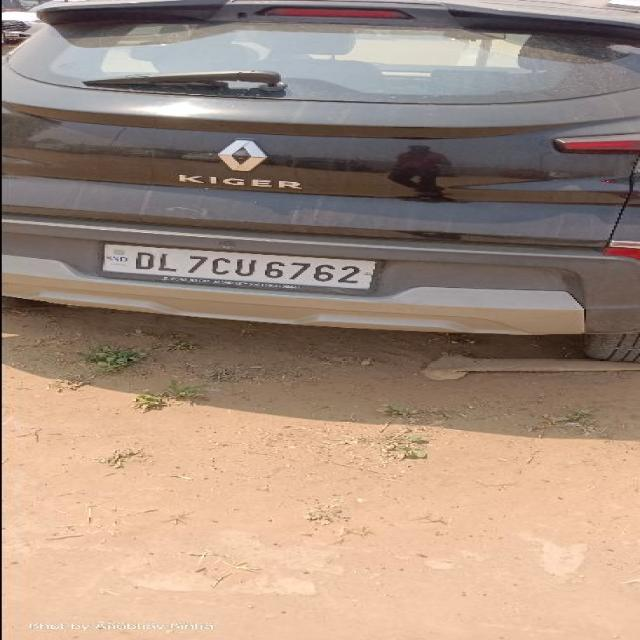license_plate: (98, 242, 382, 292)
